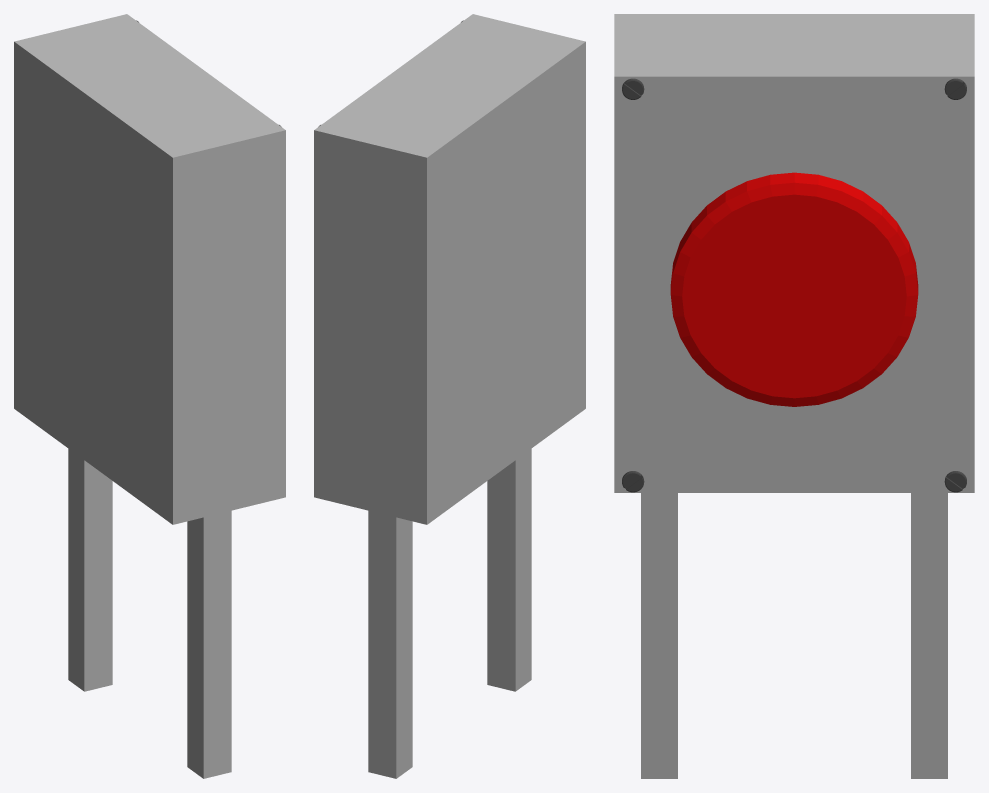
The model's file is button stand.fbx.
3 renders of one model, left to right at view 1: azimuth 30°, elevation 25°; view 2: azimuth 150°, elevation 25°; view 3: azimuth 270°, elevation 25°, orthographic. The views are drawn at different scales.
Visible parts, largest first — view 1: Cube; view 2: Cube; view 3: Cube, Cylinder, Cylinder.001.
Part boxes in pixels (x1,y1,x2,y2): Cube: (14, 14, 285, 778); Cube: (314, 14, 585, 778); Cube: (614, 14, 974, 778); Cylinder: (670, 172, 918, 406); Cylinder.001: (622, 78, 966, 492).
Size of the model in its own units: 62.62 by 285 by 128.
